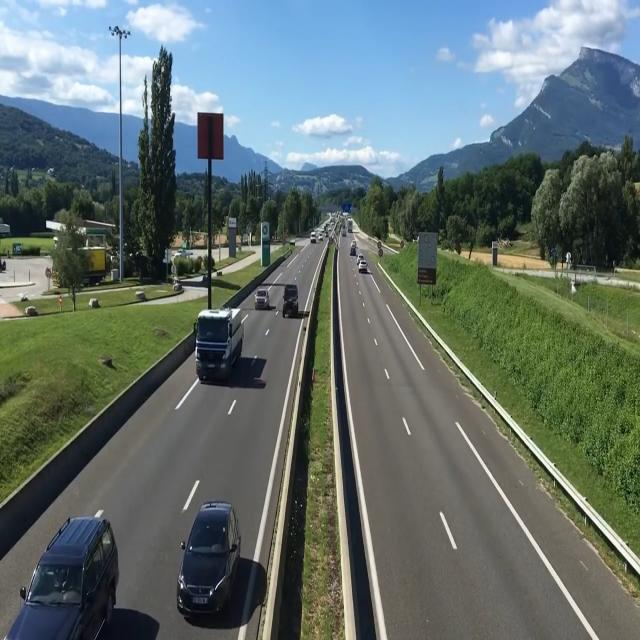car: (11, 514, 126, 640), (180, 491, 242, 627), (282, 281, 300, 328), (252, 286, 270, 314), (358, 258, 369, 280)
truck: (191, 303, 247, 383)
